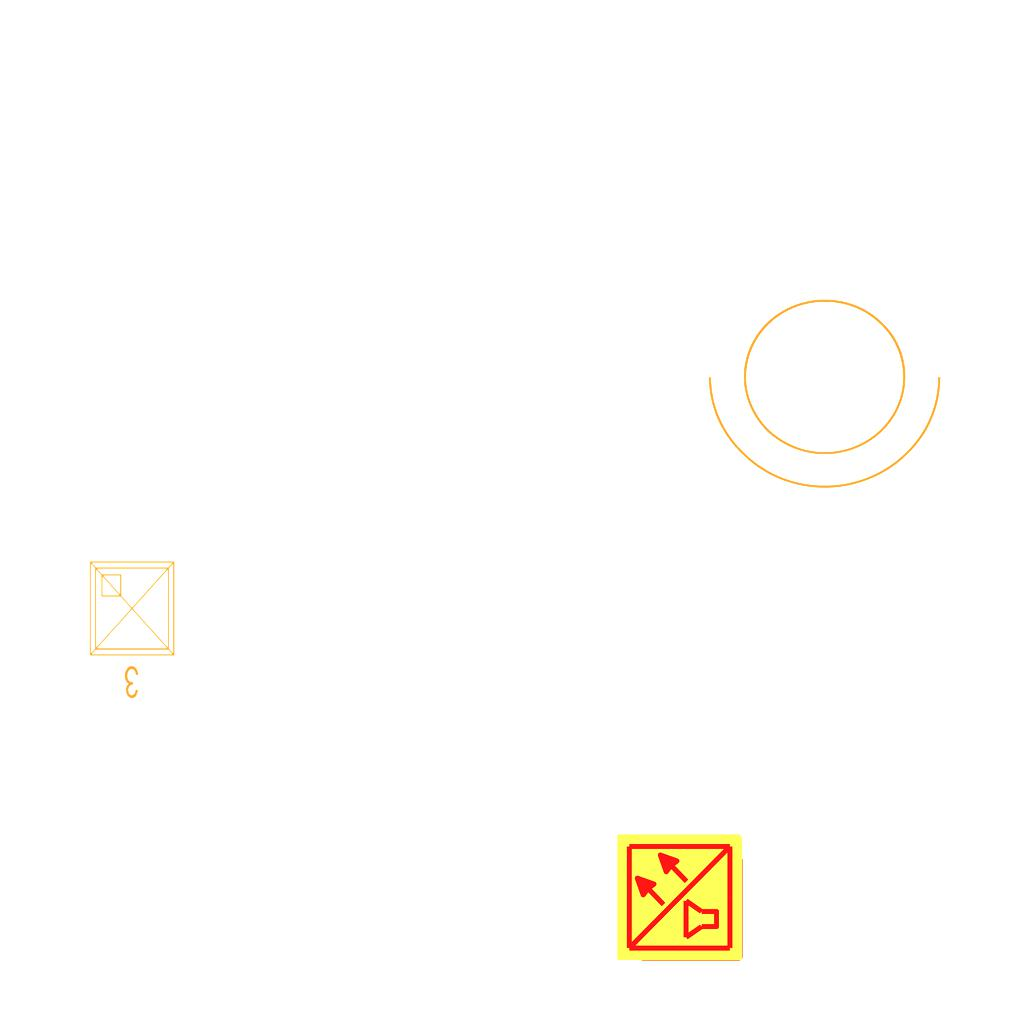Einbaudownlights_LED_Konferenzraeume: (82, 554, 186, 704)
OKW_Multisensormelder_(Kombination_optischer_Rauch-Kahlenmonoxid_Waerme-Melder): (614, 831, 746, 963)
Scheinwerfer_fuer_Alarmbeleuchtung: (699, 274, 963, 499)
